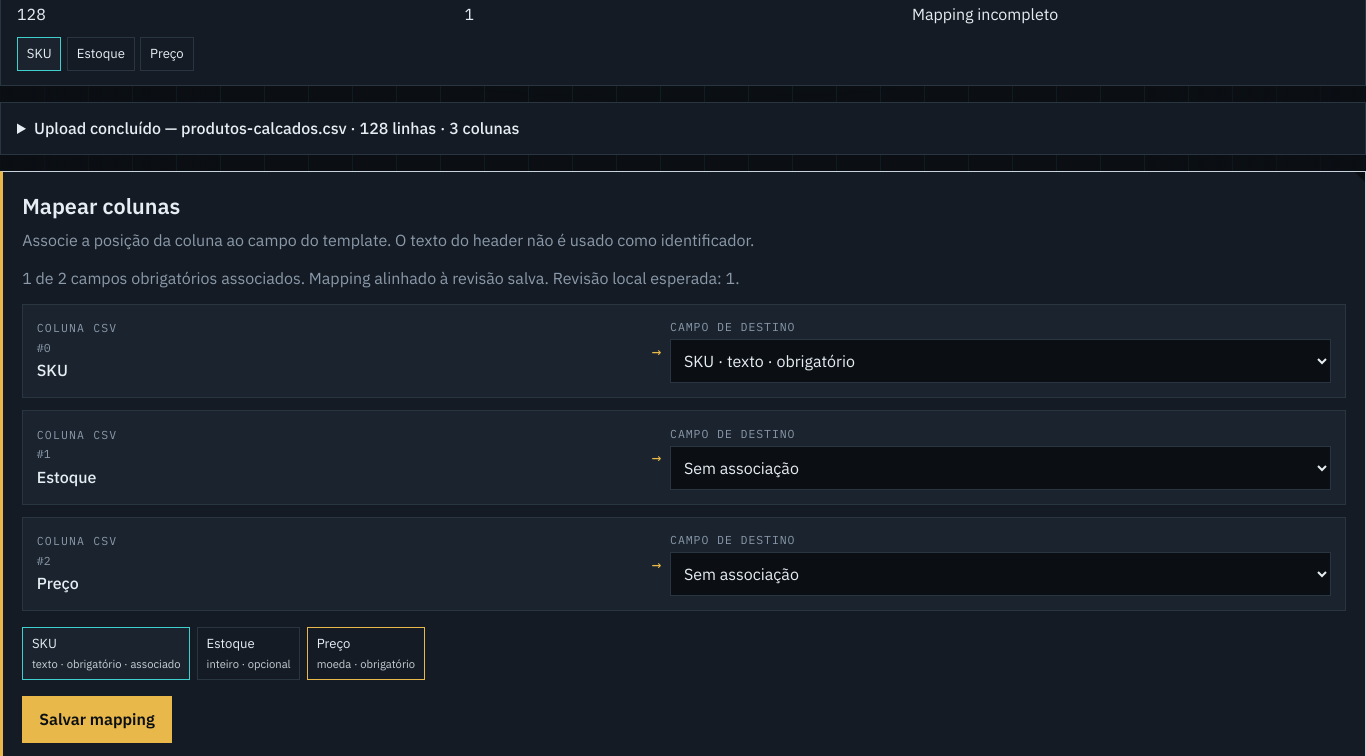
import flow mutations › keeps local selection until conflict decision and rebases without saving
This screenshot has width=1366, height=756.
(page scrolled)
Select "Preço · moeda · obrigatório" in the dropdown named "destino da coluna" at (1001, 574), box [670,552,1331,596]
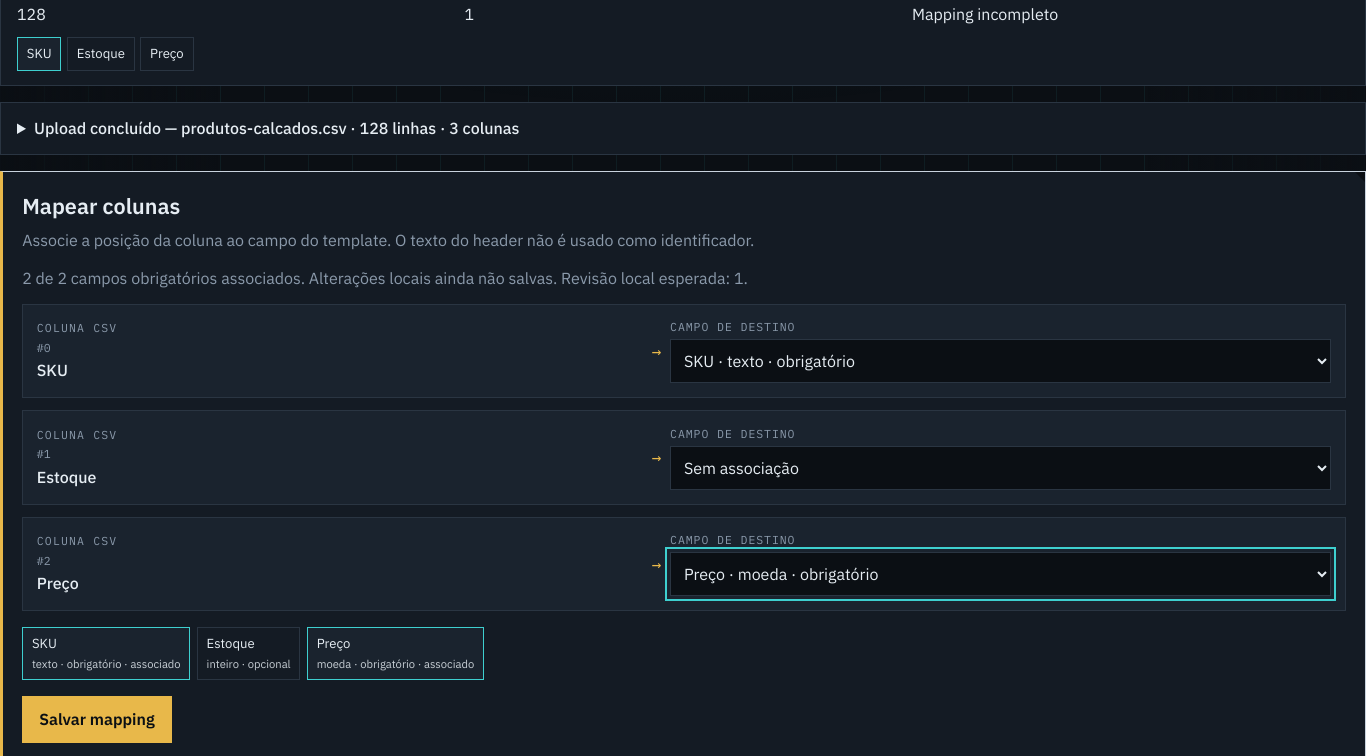
Click the button "Salvar mapping".
click(97, 719)  # box [22,696,172,743]
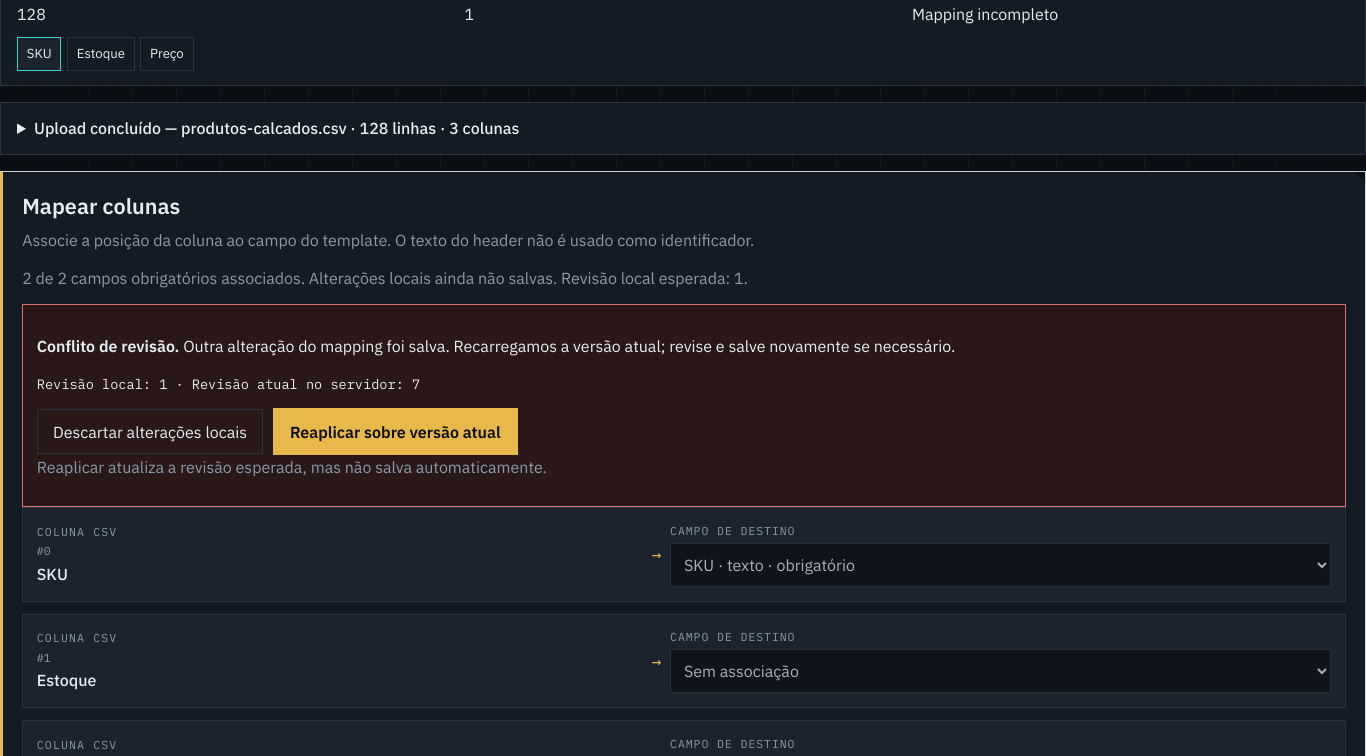
Expected: the text "Revisão local: 1 · Revisão atual no servidor: 7" is shown, [37,375,420,393]
Click the button "Reaplicar sobre versão atual".
click(395, 432)  # box [273,408,518,455]
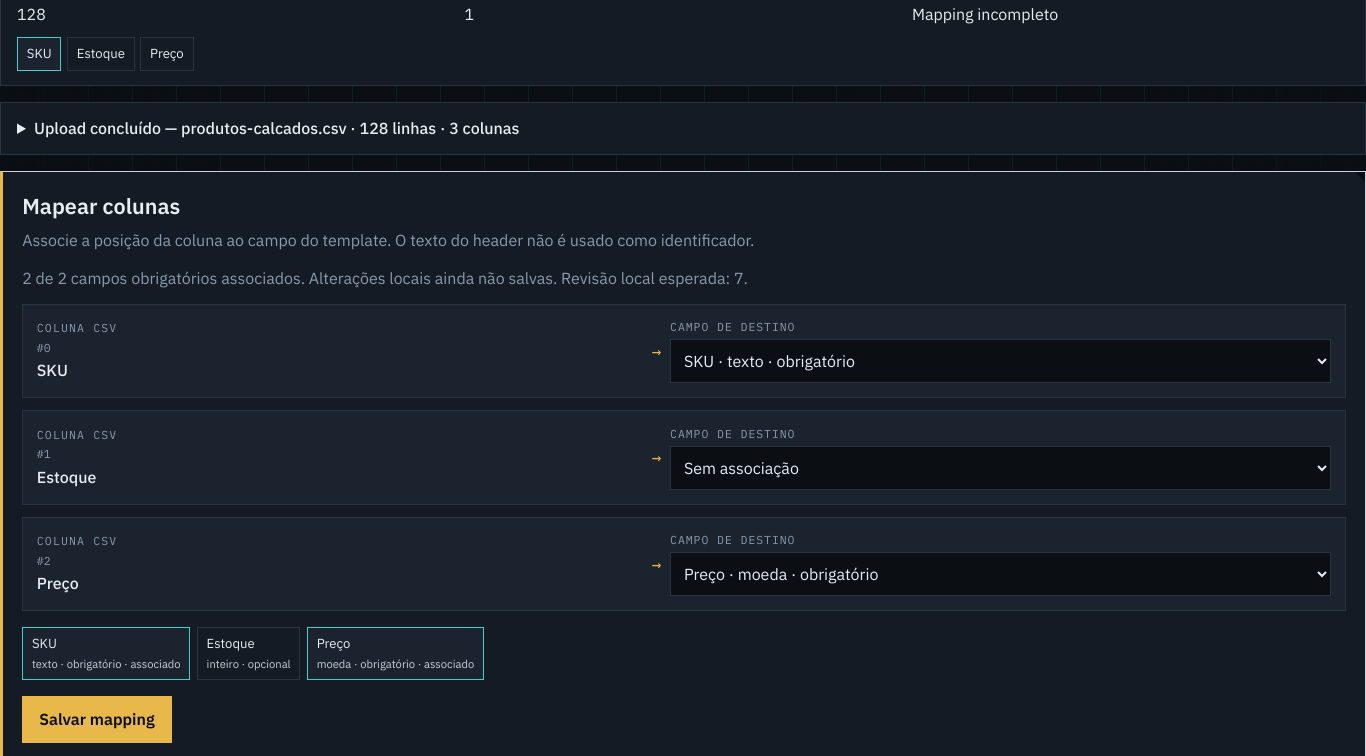
Expected: the text "revisão local esperada: 7" is shown, [22,268,748,288]
Expected: the button "Salvar mapping" is enabled, [22,696,172,743]
